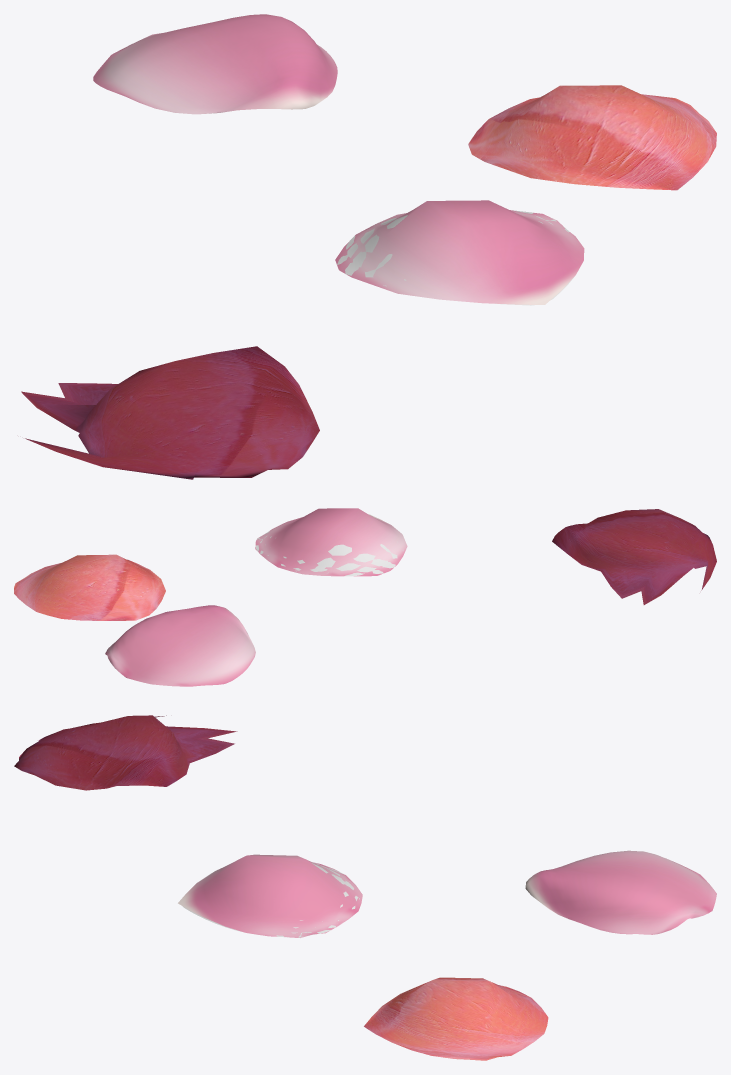
The model's file is petalfalling3.glb.
3 renders of one model, top to bottom at view 1: azimuth 30°, elevation 25°; view 2: azimuth 150°, elevation 25°; view 3: azimuth 270°, elevation 25°, orthographic. The views are drawn at different scales.
Parts seen in each view (by area): view 1: petal2 (×2), petal3, petal1, Plane; view 2: petal2 (×2), petal3, petal1, Plane; view 3: petal2 (×2), petal3, petal1.
Boxes of the visible parts, left/top/right/bottom form: petal2 (×2): left=21, top=14, right=337, bottom=479; petal3: left=468, top=85, right=716, bottom=190; petal1: left=335, top=200, right=584, bottom=304; Plane: left=337, top=210, right=579, bottom=305; petal2 (×2): left=105, top=509, right=716, bottom=686; petal3: left=14, top=554, right=165, bottom=620; petal1: left=255, top=508, right=407, bottom=576; Plane: left=255, top=531, right=403, bottom=576; petal2 (×2): left=14, top=715, right=716, bottom=934; petal3: left=364, top=977, right=548, bottom=1060; petal1: left=178, top=854, right=362, bottom=937.
Bounding box in the file's own units: 1874 × 191 × 1771.
3 materials, 3 textured.
